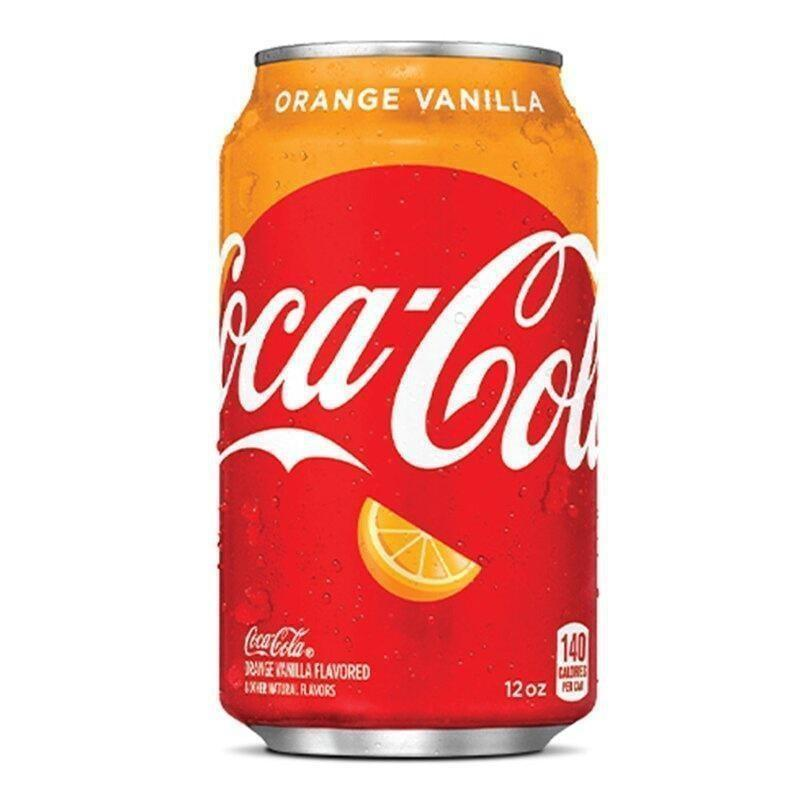tin can: (211, 27, 608, 763)
